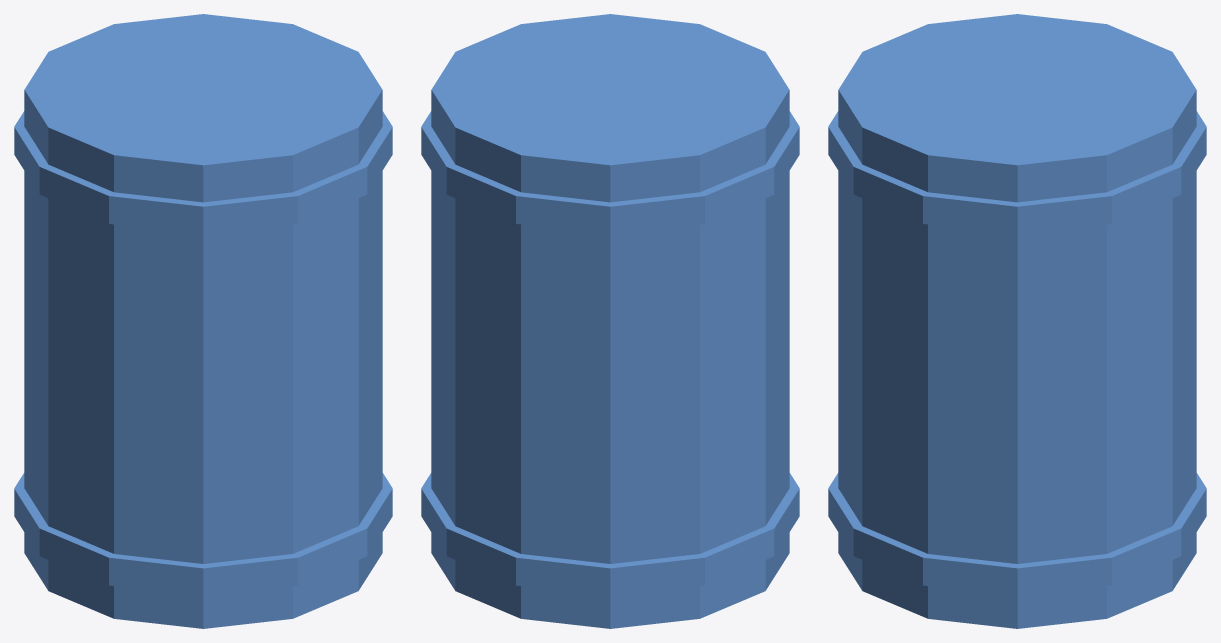
File: barrel.glb
3 views of the same model, side by side, from view 1: azimuth 30°, elevation 25°; view 2: azimuth 150°, elevation 25°; view 3: azimuth 270°, elevation 25° (orthographic).
Bounding box in the file's own units: 0.74 × 1 × 0.74.
